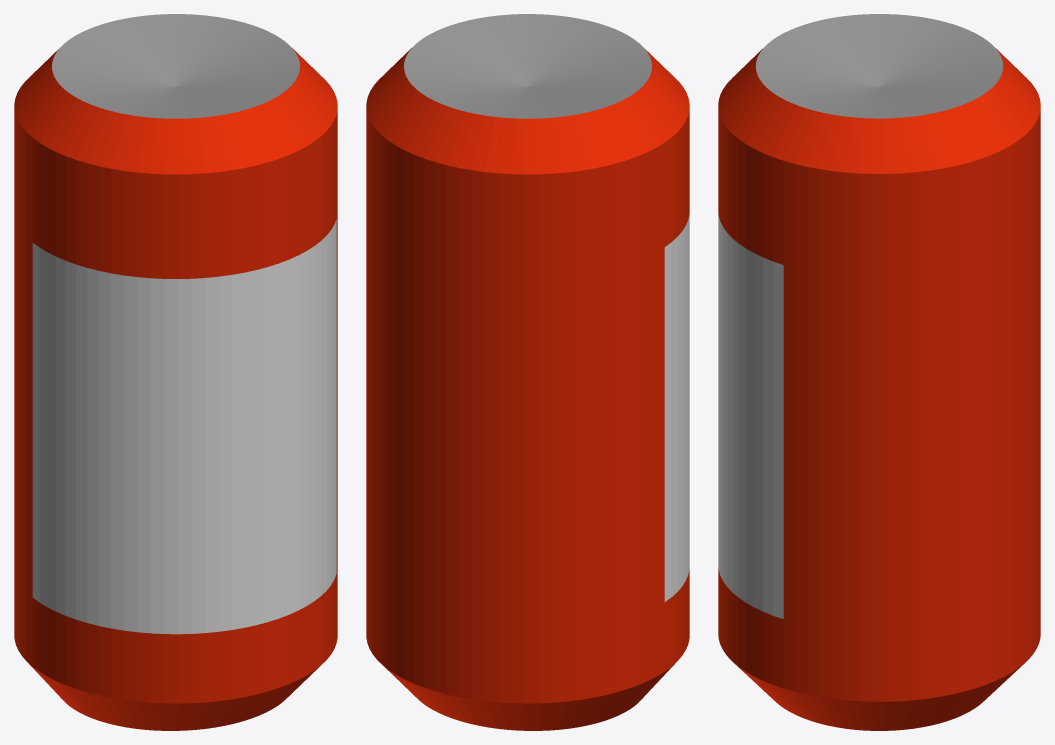
The picture shows the model from 3 angles, left to right: view 1: azimuth 30°, elevation 25°; view 2: azimuth 150°, elevation 25°; view 3: azimuth 270°, elevation 25°; orthographic projection.
Visible parts, largest first — view 1: Cylinder; view 2: Cylinder; view 3: Cylinder.
Part boxes in pixels (left/top/right/bottom): Cylinder: left=14, top=14, right=337, bottom=730; Cylinder: left=366, top=14, right=689, bottom=730; Cylinder: left=718, top=14, right=1040, bottom=730.
Bounding box in the file's own units: 200 × 422 × 200.
